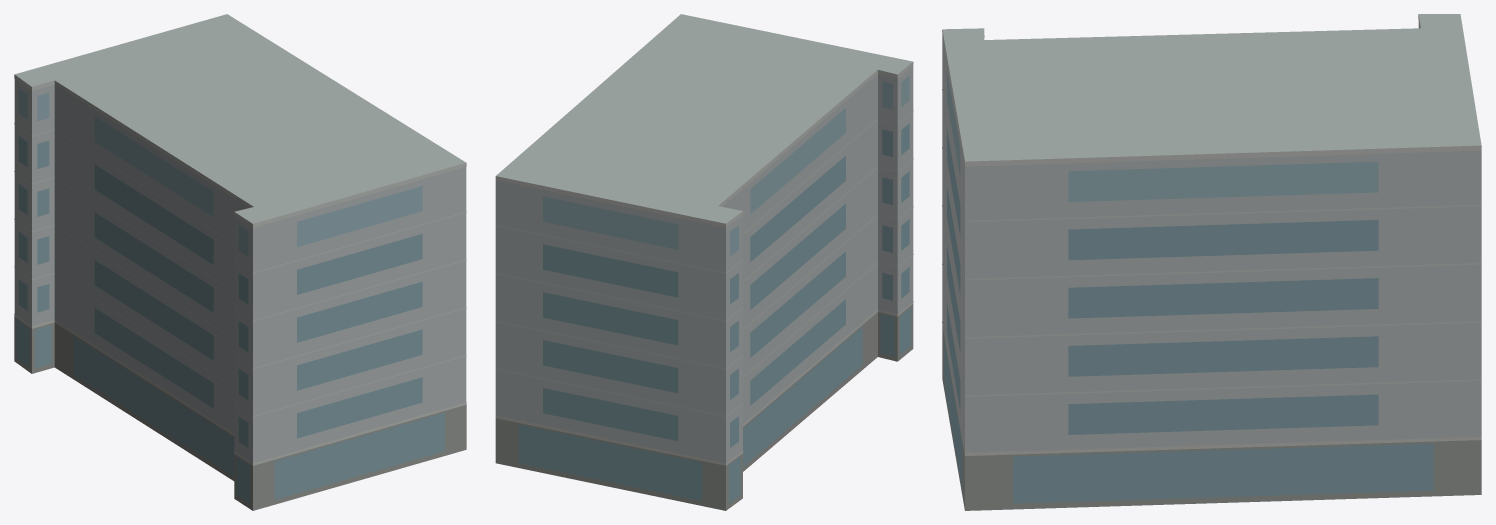
Rendered from survey-upis-32998740.glb.
3 views of the same model, side by side, from view 1: azimuth 30°, elevation 25°; view 2: azimuth 150°, elevation 25°; view 3: azimuth 270°, elevation 25° (orthographic). The views are drawn at different scales.
Visible parts, largest first — view 1: survey-upis-32998740.tmp; view 2: survey-upis-32998740.tmp; view 3: survey-upis-32998740.tmp.
Part boxes in pixels (x1,y1,x2,y2): survey-upis-32998740.tmp: [14, 14, 466, 510]; survey-upis-32998740.tmp: [495, 14, 913, 510]; survey-upis-32998740.tmp: [942, 14, 1481, 510].
Bounding box in the file's own units: 15.34 × 16.9 × 23.67.
